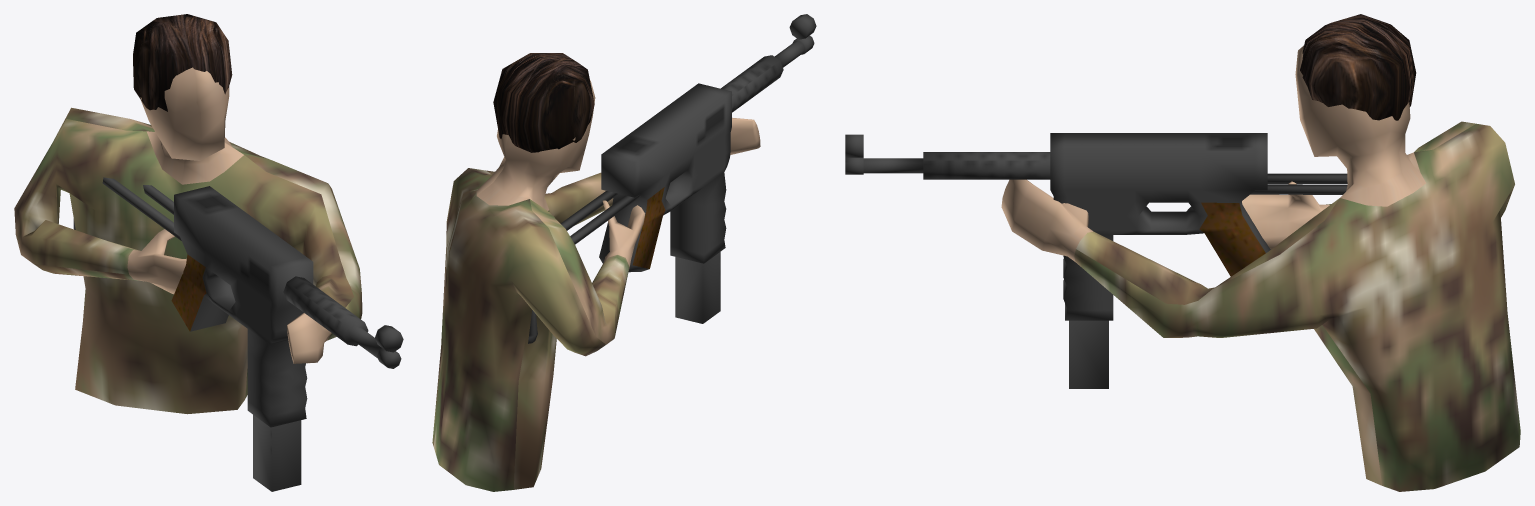
Rendered from player.obj.
3 renders of one model, left to right at view 1: azimuth 30°, elevation 25°; view 2: azimuth 150°, elevation 25°; view 3: azimuth 270°, elevation 25°, orthographic. The views are drawn at different scales.
Visible parts, largest first — view 1: Icosphere; view 2: Icosphere; view 3: Icosphere.
Boxes of the visible parts, x1,y1,x2,y2 form: Icosphere: (14, 14, 403, 491); Icosphere: (432, 14, 816, 491); Icosphere: (845, 14, 1520, 491).
Bounding box in the file's own units: 0.1463 × 0.2403 × 0.3436.
Materials: 4 (4 with a texture image).
